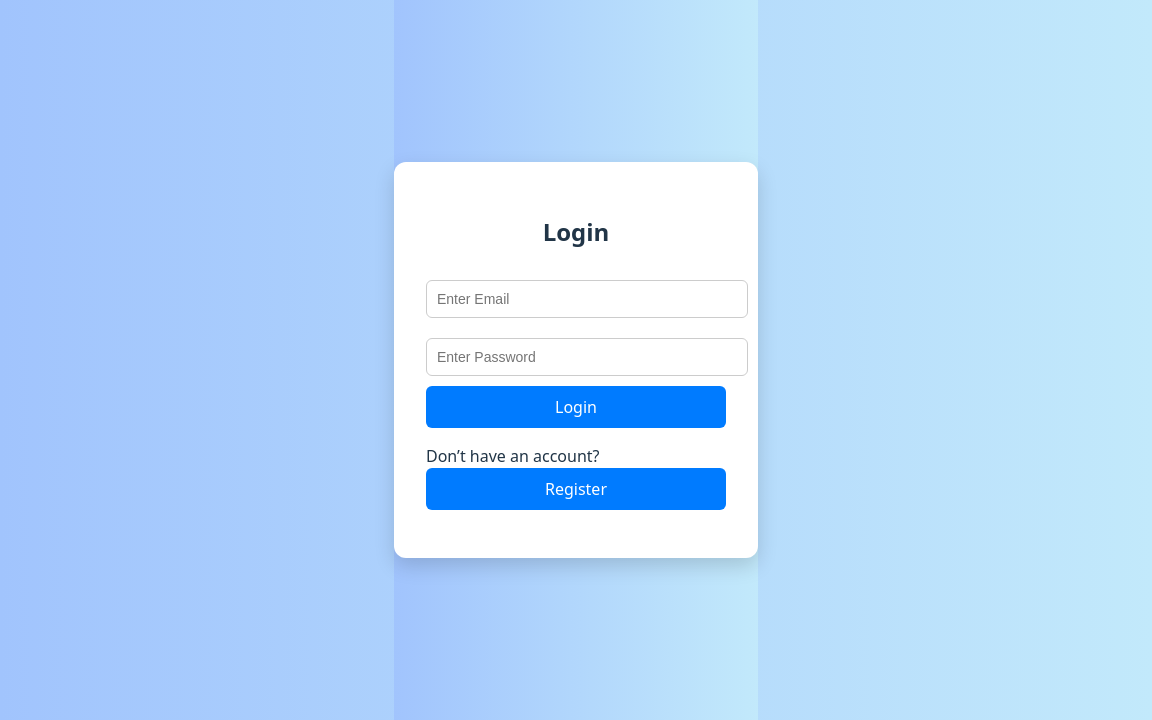
Test: Login Component › shows error message on failed login
Type "wrong@example.com" into the field with placeholder "Enter Email" at (587, 299), box [426,280,748,318]
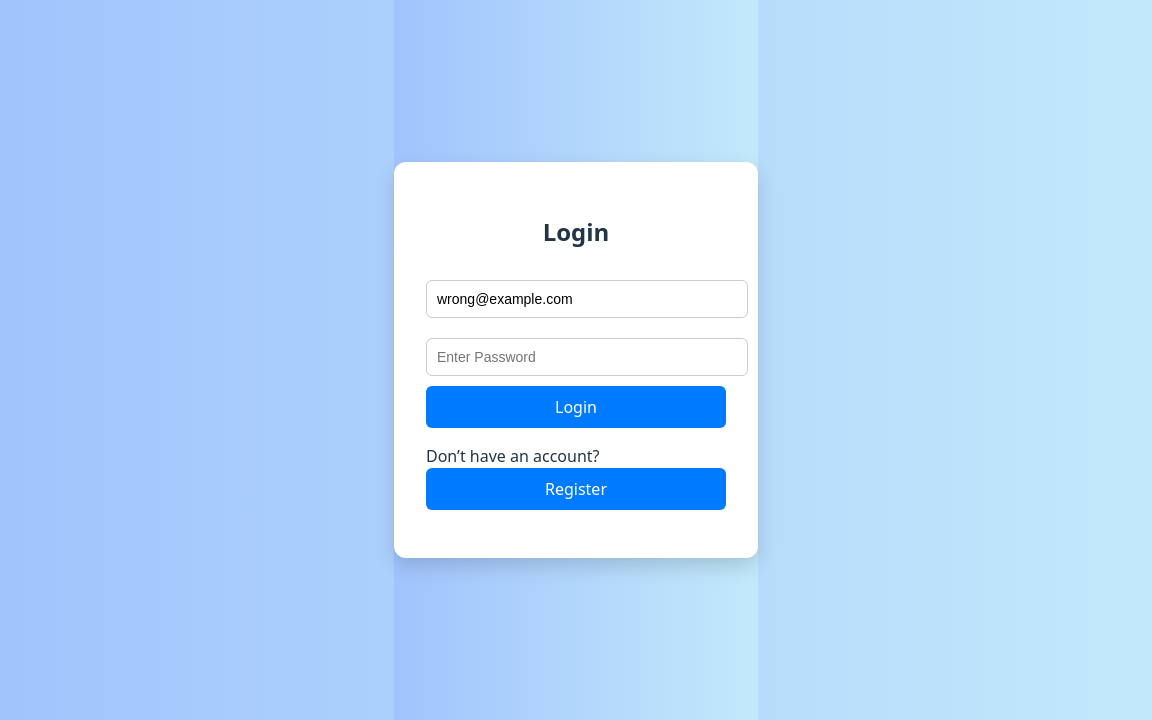
Type "wrongpass" into the password field with placeholder "Enter Password" at (587, 357), box [426,338,748,376]
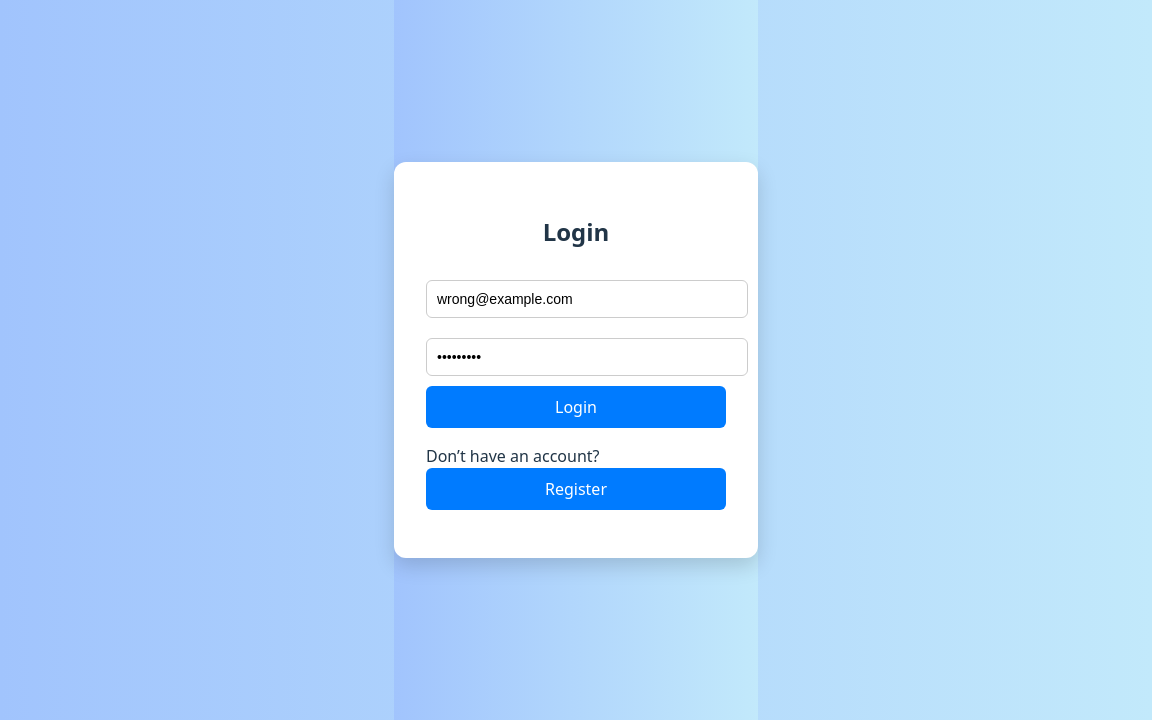
Click the button "Login" at (576, 407), box [426,386,726,428]
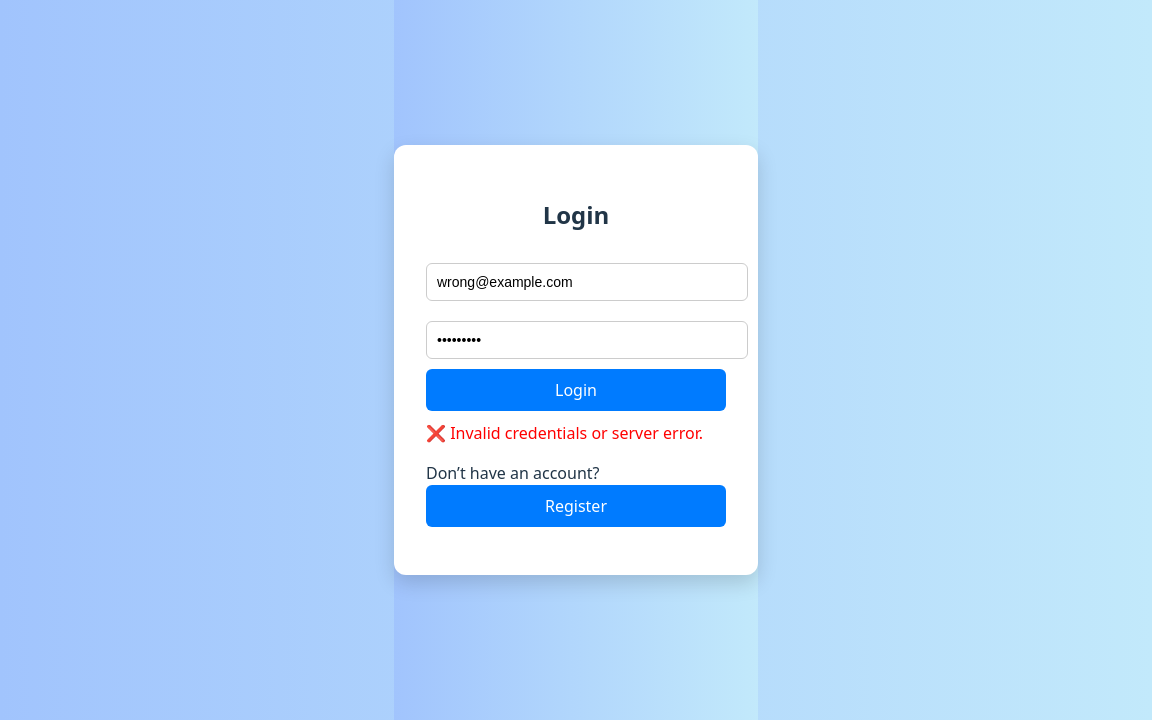
Expected: the text "❌ Invalid credentials or server error." is shown, [426,421,726,445]
